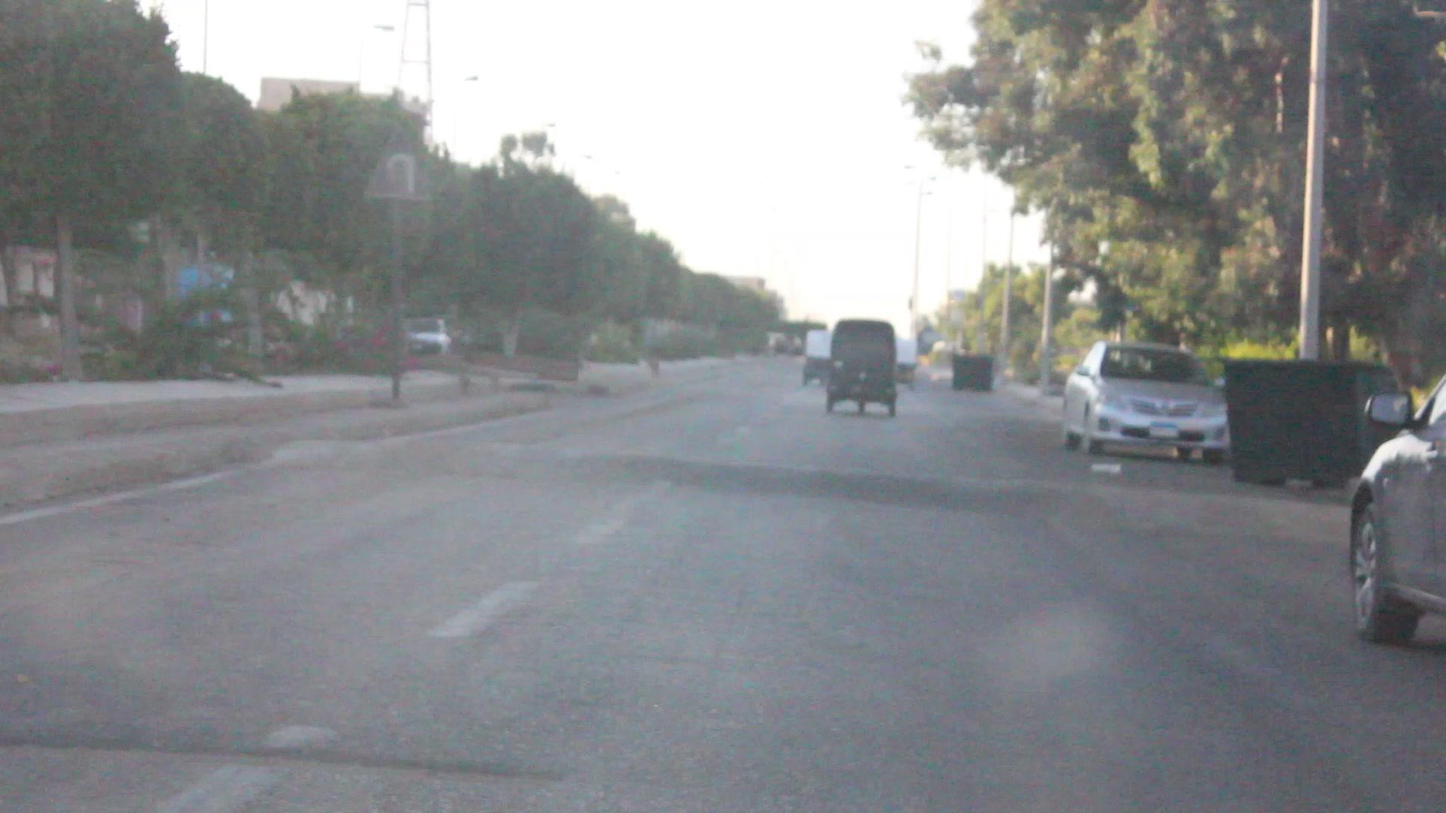Bump: (331, 427, 1374, 548)
